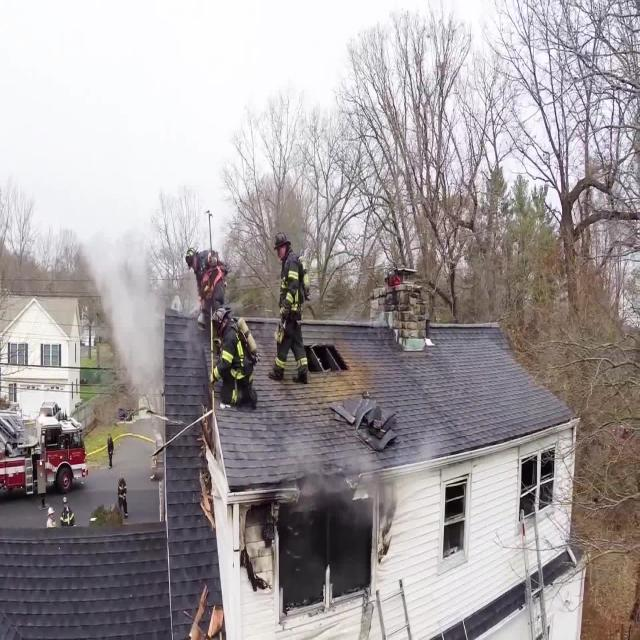Smoke: (77, 144, 169, 402)
